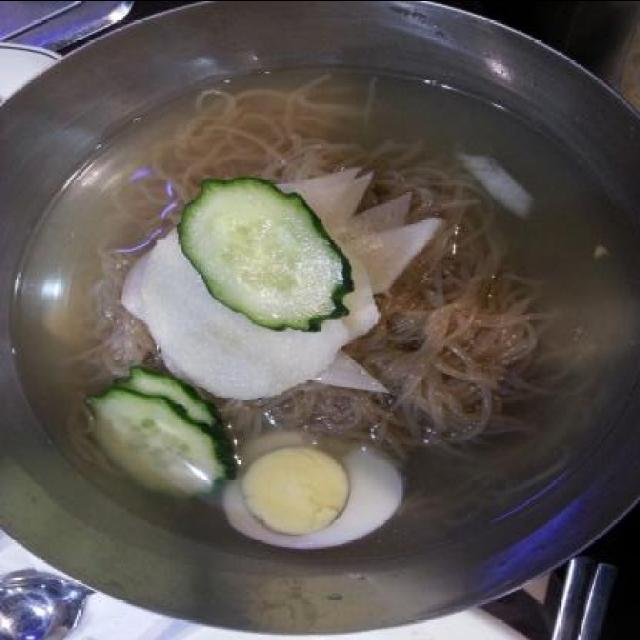Cucumber: (163, 180, 352, 334), (82, 383, 220, 503), (113, 363, 225, 457)
